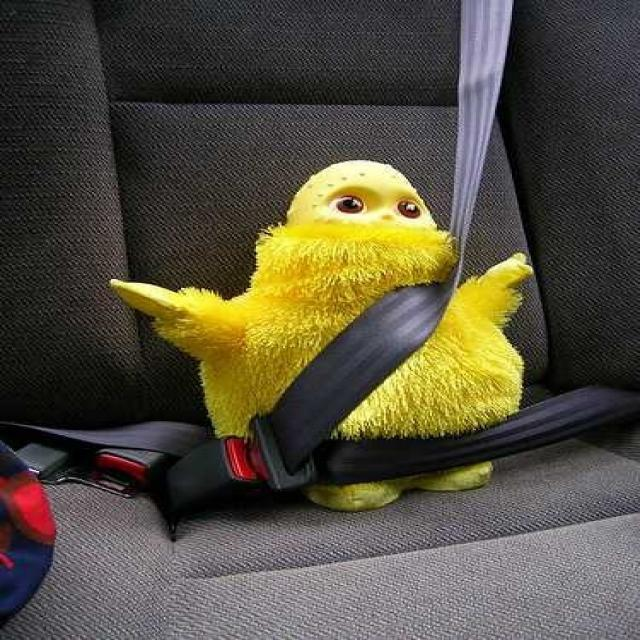seatbelt: (204, 21, 576, 486)
